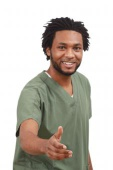male: (47, 20, 84, 78)
